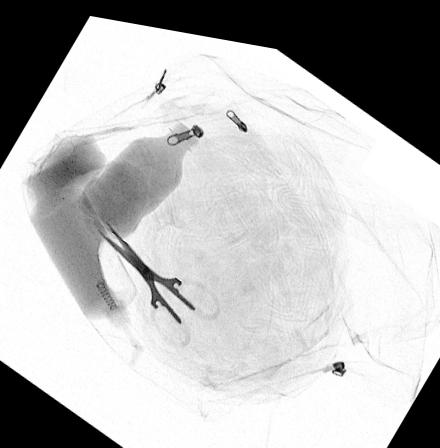Scissors: (95, 217, 220, 342)
